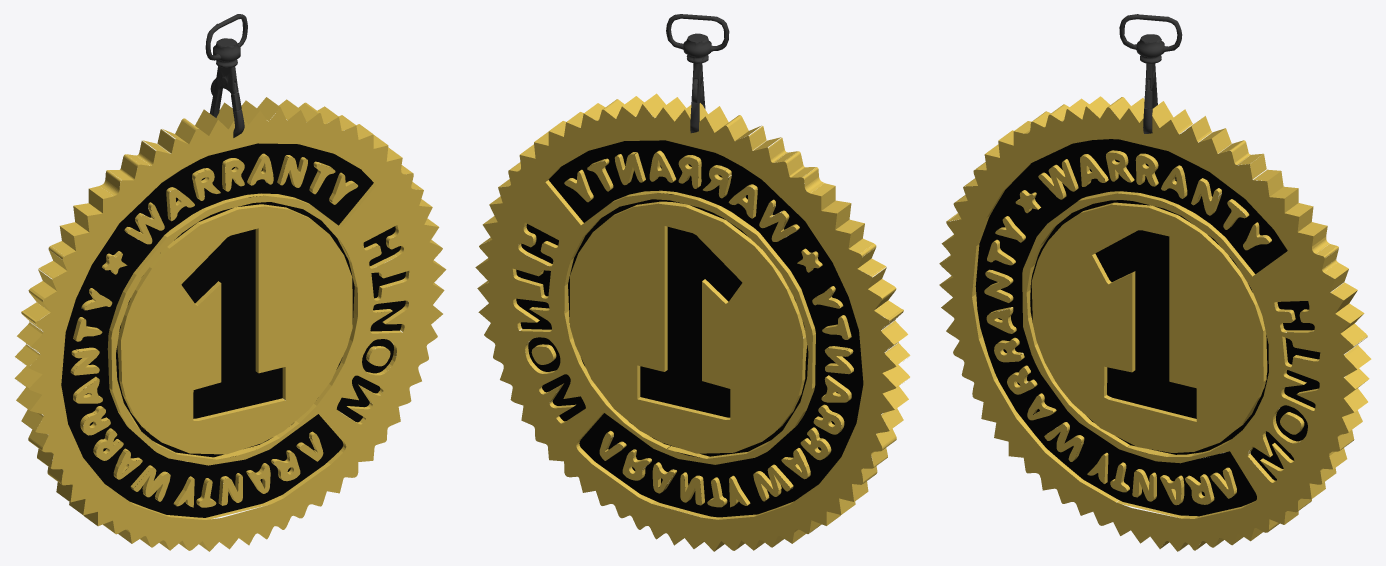
File: card.glb
The picture shows the model from 3 angles, left to right: view 1: azimuth 30°, elevation 25°; view 2: azimuth 150°, elevation 25°; view 3: azimuth 330°, elevation 25°; orthographic projection.
Parts seen in each view (by area): view 1: card, clamp, clip; view 2: card, clip, clamp; view 3: card, clip, clamp.
Part boxes in pixels (bbox=[...]): card: bbox=[14, 97, 446, 551]; clamp: bbox=[209, 66, 244, 137]; clip: bbox=[205, 14, 247, 67]; card: bbox=[475, 93, 910, 551]; clip: bbox=[666, 14, 729, 63]; clamp: bbox=[690, 63, 705, 133]; card: bbox=[939, 96, 1371, 551]; clip: bbox=[1119, 14, 1182, 63]; clamp: bbox=[1143, 63, 1157, 133].
Size of the model in its own units: 1.11 by 1.33 by 0.0904.
2 materials, 1 textured.
